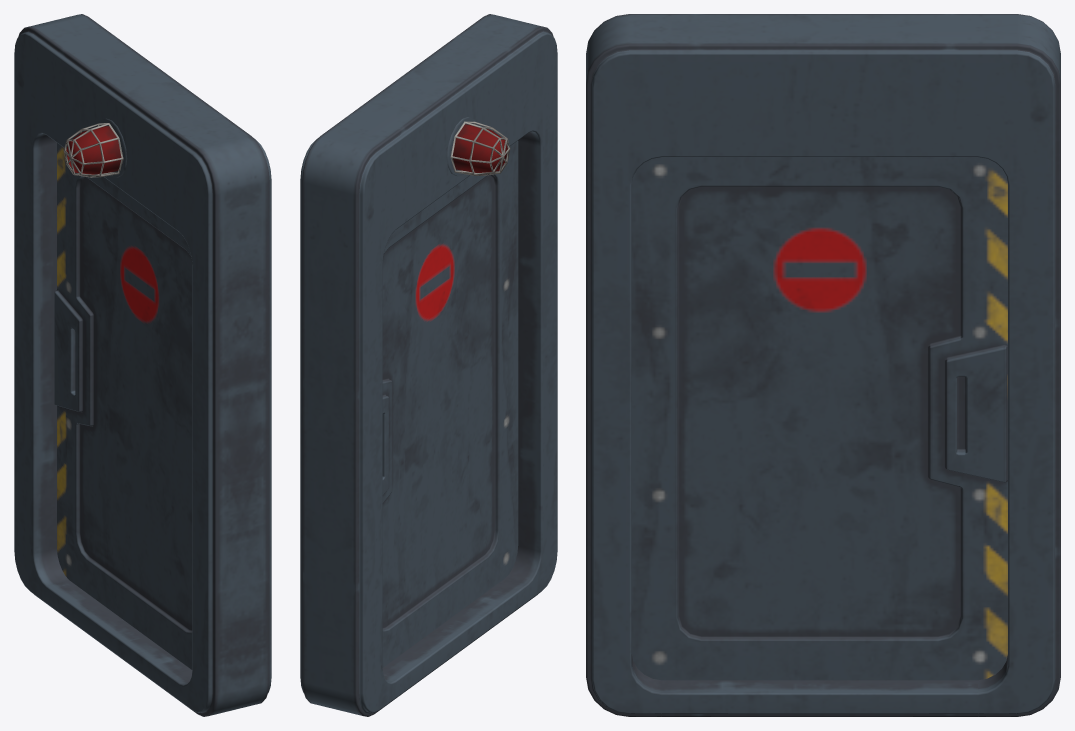
File: GR_CM_BD_Door_002.fbx
3 renders of one model, left to right at view 1: azimuth 30°, elevation 25°; view 2: azimuth 150°, elevation 25°; view 3: azimuth 270°, elevation 25°, orthographic. The views are drawn at different scales.
Visible parts, largest first — view 1: BG_CM_BD_Door_002; view 2: BG_CM_BD_Door_002; view 3: BG_CM_BD_Door_002.
Boxes of the visible parts, x1,y1,x2,y2 form: BG_CM_BD_Door_002: [14, 14, 271, 716]; BG_CM_BD_Door_002: [300, 14, 557, 716]; BG_CM_BD_Door_002: [586, 14, 1060, 716].
Bounding box in the file's own units: 50.22 × 256 × 164.
1 material, 1 textured.
